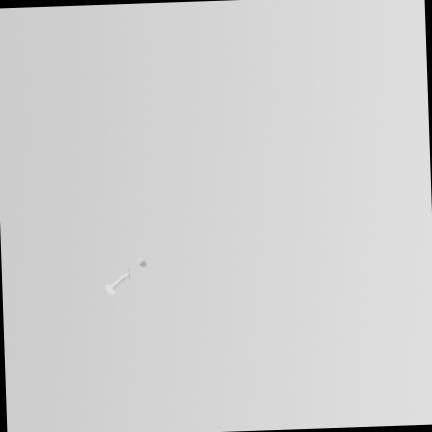Shahed: (105, 254, 149, 295)
